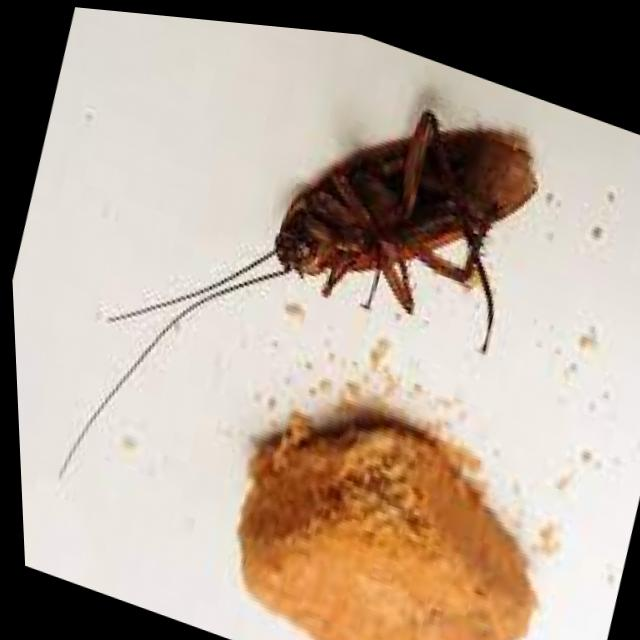Cockroach: (106, 8, 561, 425)
